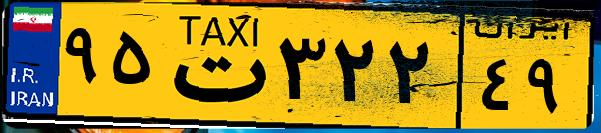2: (385, 28, 445, 110), (330, 28, 385, 110)
3: (270, 28, 330, 110)
4: (475, 38, 525, 113)
5: (110, 28, 158, 98)
9: (57, 26, 110, 100), (525, 38, 570, 115)
ت: (158, 12, 270, 120)
